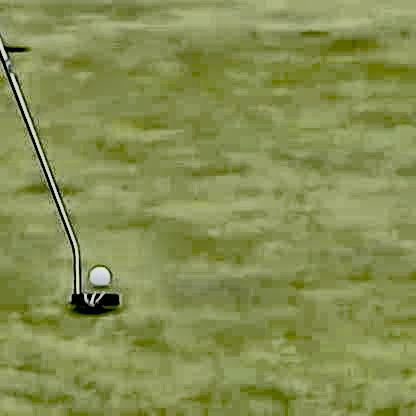golfball: (87, 260, 111, 285)
